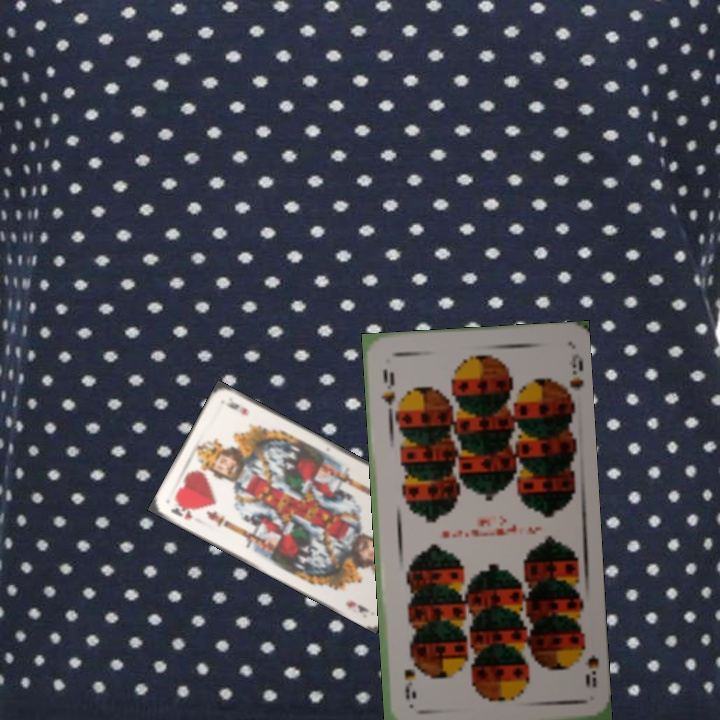HK: (166, 497, 194, 522)
S9: (573, 636, 601, 690), (377, 364, 398, 416)
